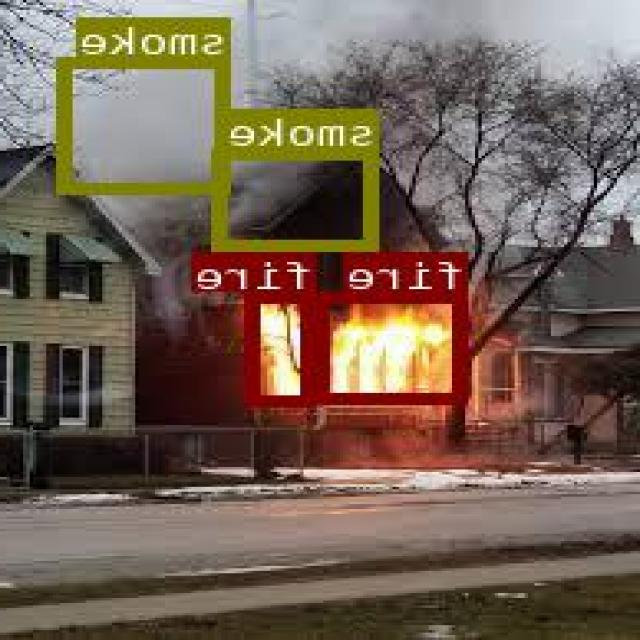fire: (319, 289, 469, 402), (250, 290, 318, 403)
smoke: (62, 56, 234, 192), (217, 146, 381, 248)
